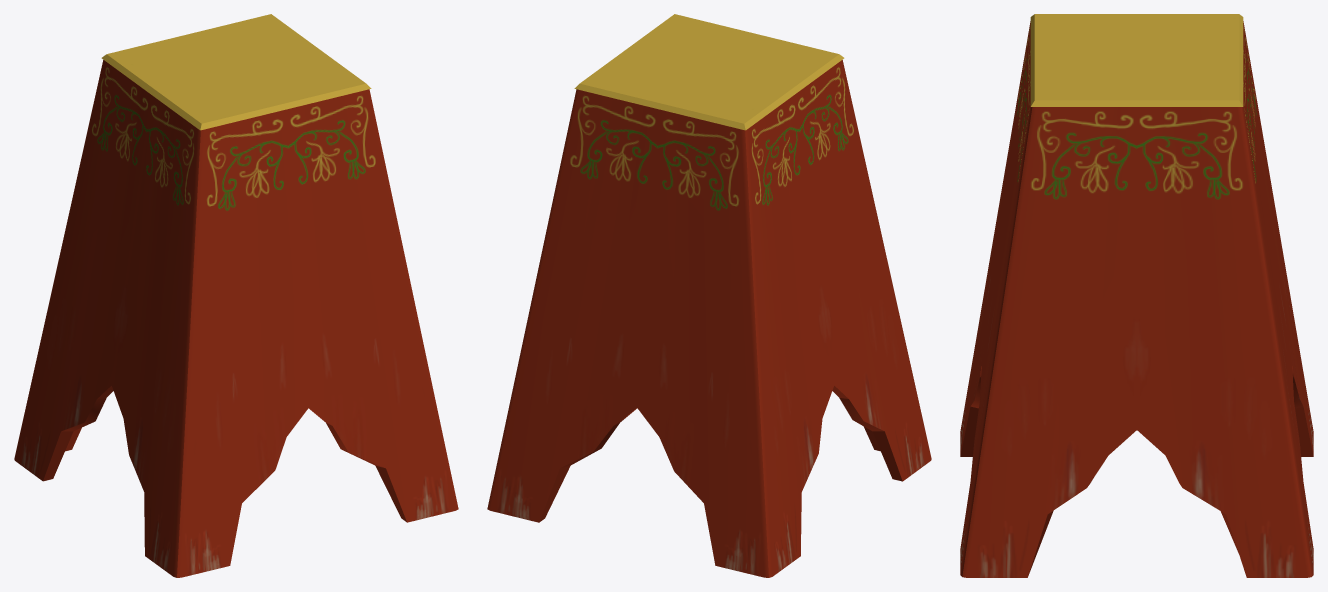
The model's file is Stoolset_Fancy_Scaled.fbx.
3 views of the same model, side by side, from view 1: azimuth 30°, elevation 25°; view 2: azimuth 150°, elevation 25°; view 3: azimuth 270°, elevation 25° (orthographic). The views are drawn at different scales.
Visible parts, largest first — view 1: StoolBody2, StoolTop; view 2: StoolBody2, StoolTop; view 3: StoolBody2, StoolTop.
Boxes of the visible parts, x1,y1,x2,y2 form: StoolBody2: [14, 60, 458, 577]; StoolTop: [101, 14, 371, 130]; StoolBody2: [487, 60, 931, 577]; StoolTop: [574, 14, 844, 130]; StoolBody2: [960, 21, 1313, 577]; StoolTop: [1030, 14, 1243, 106].
Size of the model in its own units: 11.74 by 16.35 by 11.74.
